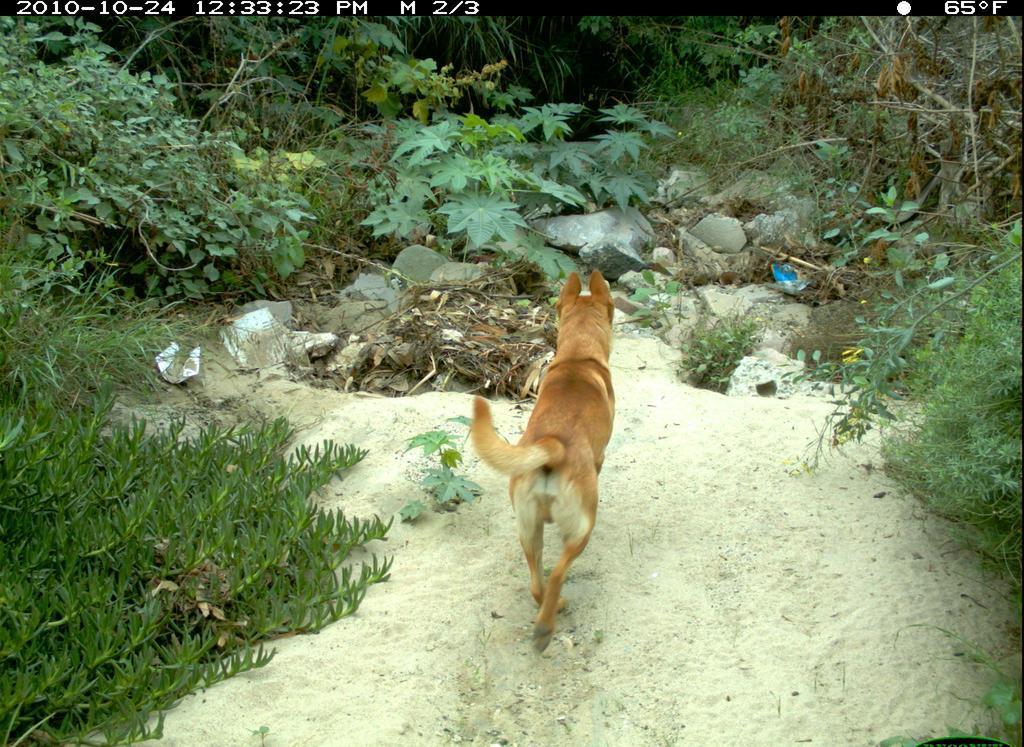dog: (466, 261, 661, 653)
